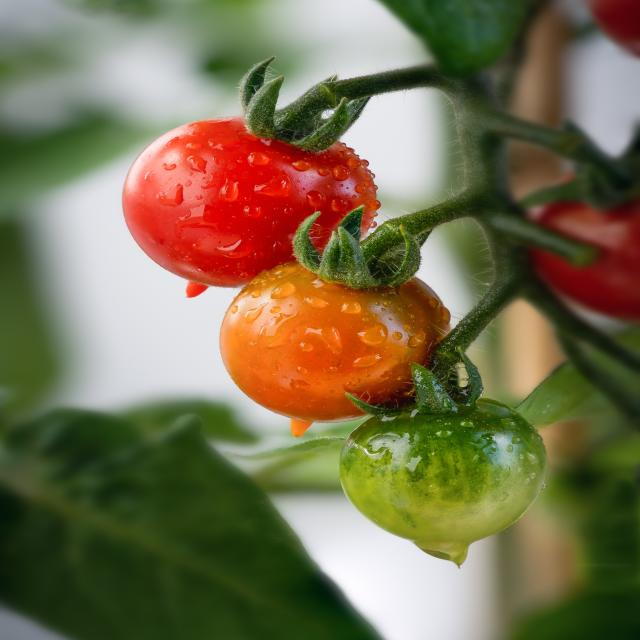Tomato: (132, 110, 400, 282)
